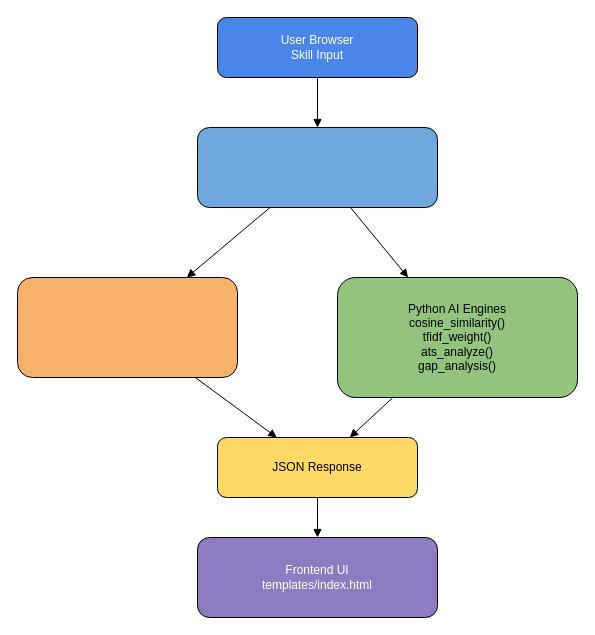
Image size: 595x635. Some labels were removed from this diagram. Here are the shapes that lost their labels. From the top down, the centre of each, then its label:
pixel 317 167: Flask Backend app.py
pixel 127 327: TensorFlow ANN career_model (SavedModel)
